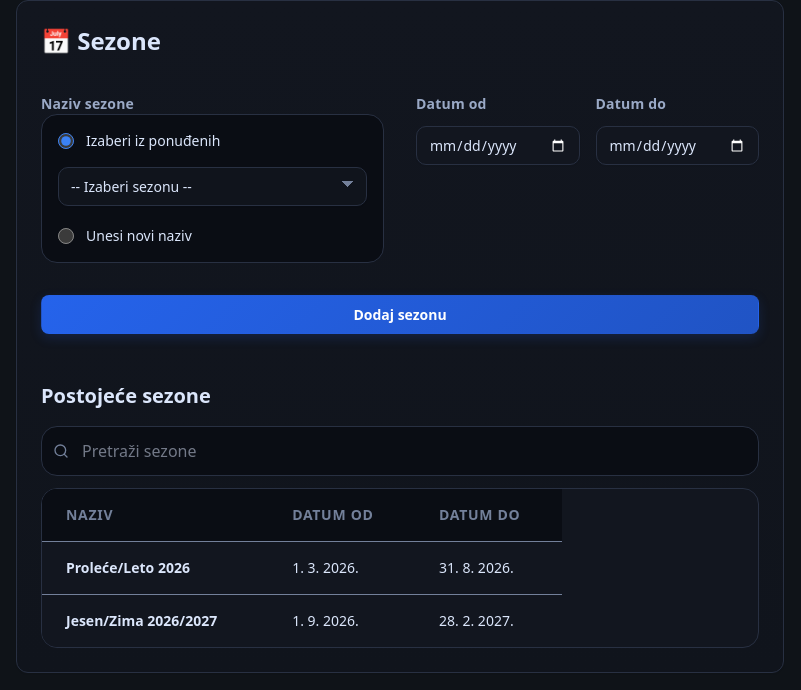
it: SezonaPage responsive list › shows search before the scrollable key-column table and filters locally
Expected: the element named "Tabela sezona" is shown, [42, 489, 562, 647]
Type "zima" into the search field labelled "Pretraži sezone" at [400, 451], box [41, 426, 759, 476]
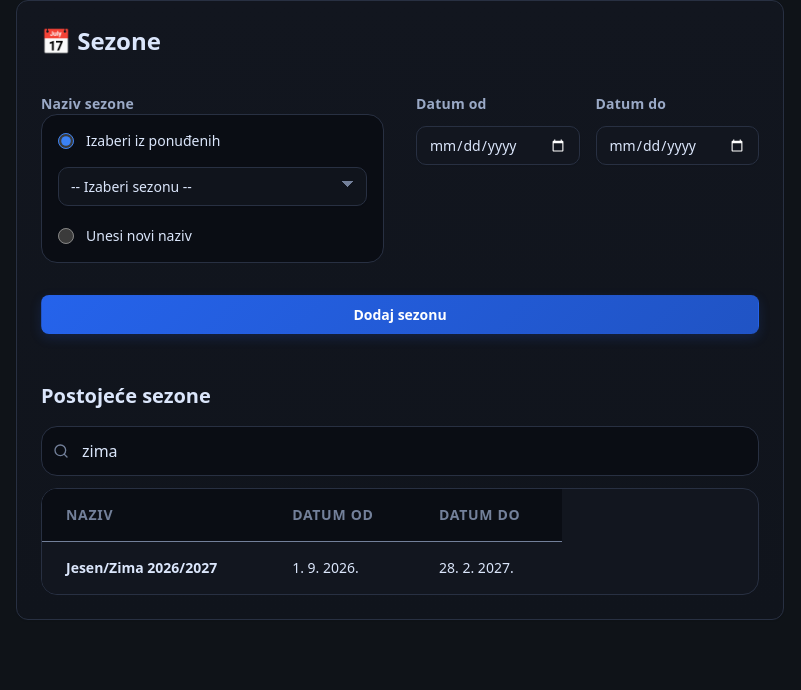
Expected: the text "Jesen/Zima 2026/2027" is shown, [42, 542, 268, 594]
Result: the text "Proleće/Leto 2026" is gone
